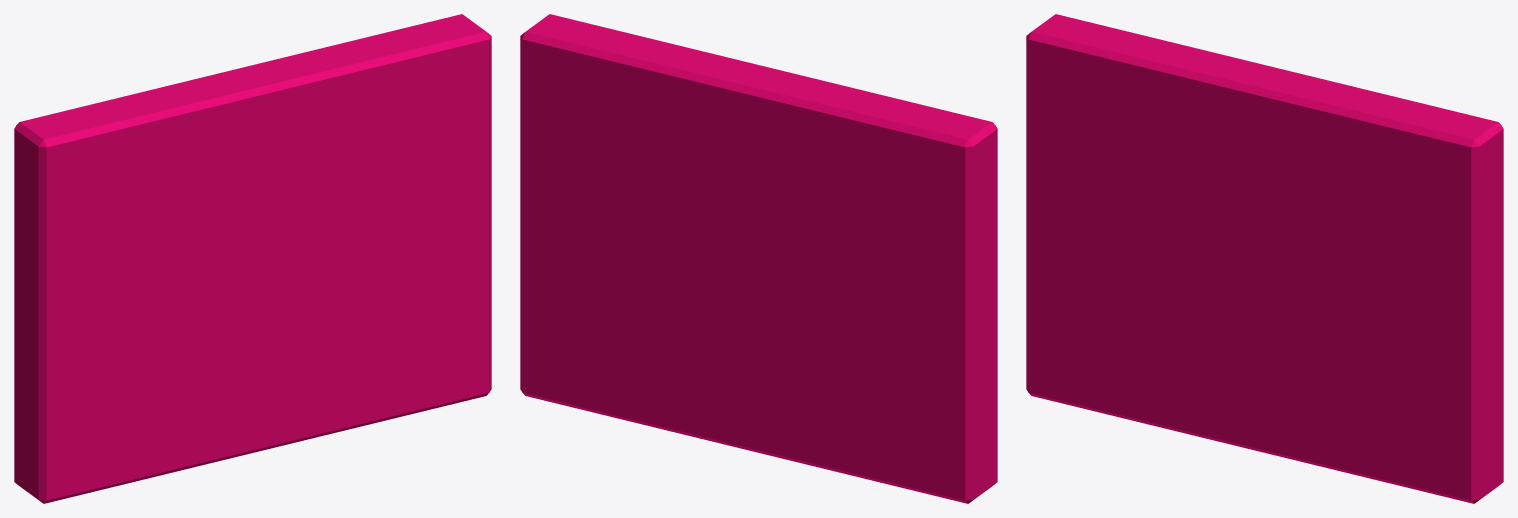
File: Commercials_Bilboard_07_Lod0.fbx
3 views of the same model, side by side, from view 1: azimuth 30°, elevation 25°; view 2: azimuth 150°, elevation 25°; view 3: azimuth 330°, elevation 25° (orthographic).
Visible parts, largest first — view 1: Commercials_Bilboard_07_Lod0; view 2: Commercials_Bilboard_07_Lod0; view 3: Commercials_Bilboard_07_Lod0.
Part boxes in pixels (bbox=[...]): Commercials_Bilboard_07_Lod0: bbox=[14, 14, 491, 503]; Commercials_Bilboard_07_Lod0: bbox=[520, 14, 997, 503]; Commercials_Bilboard_07_Lod0: bbox=[1026, 14, 1503, 503].
Bounding box in the file's own units: 139 × 107 × 16.13.
